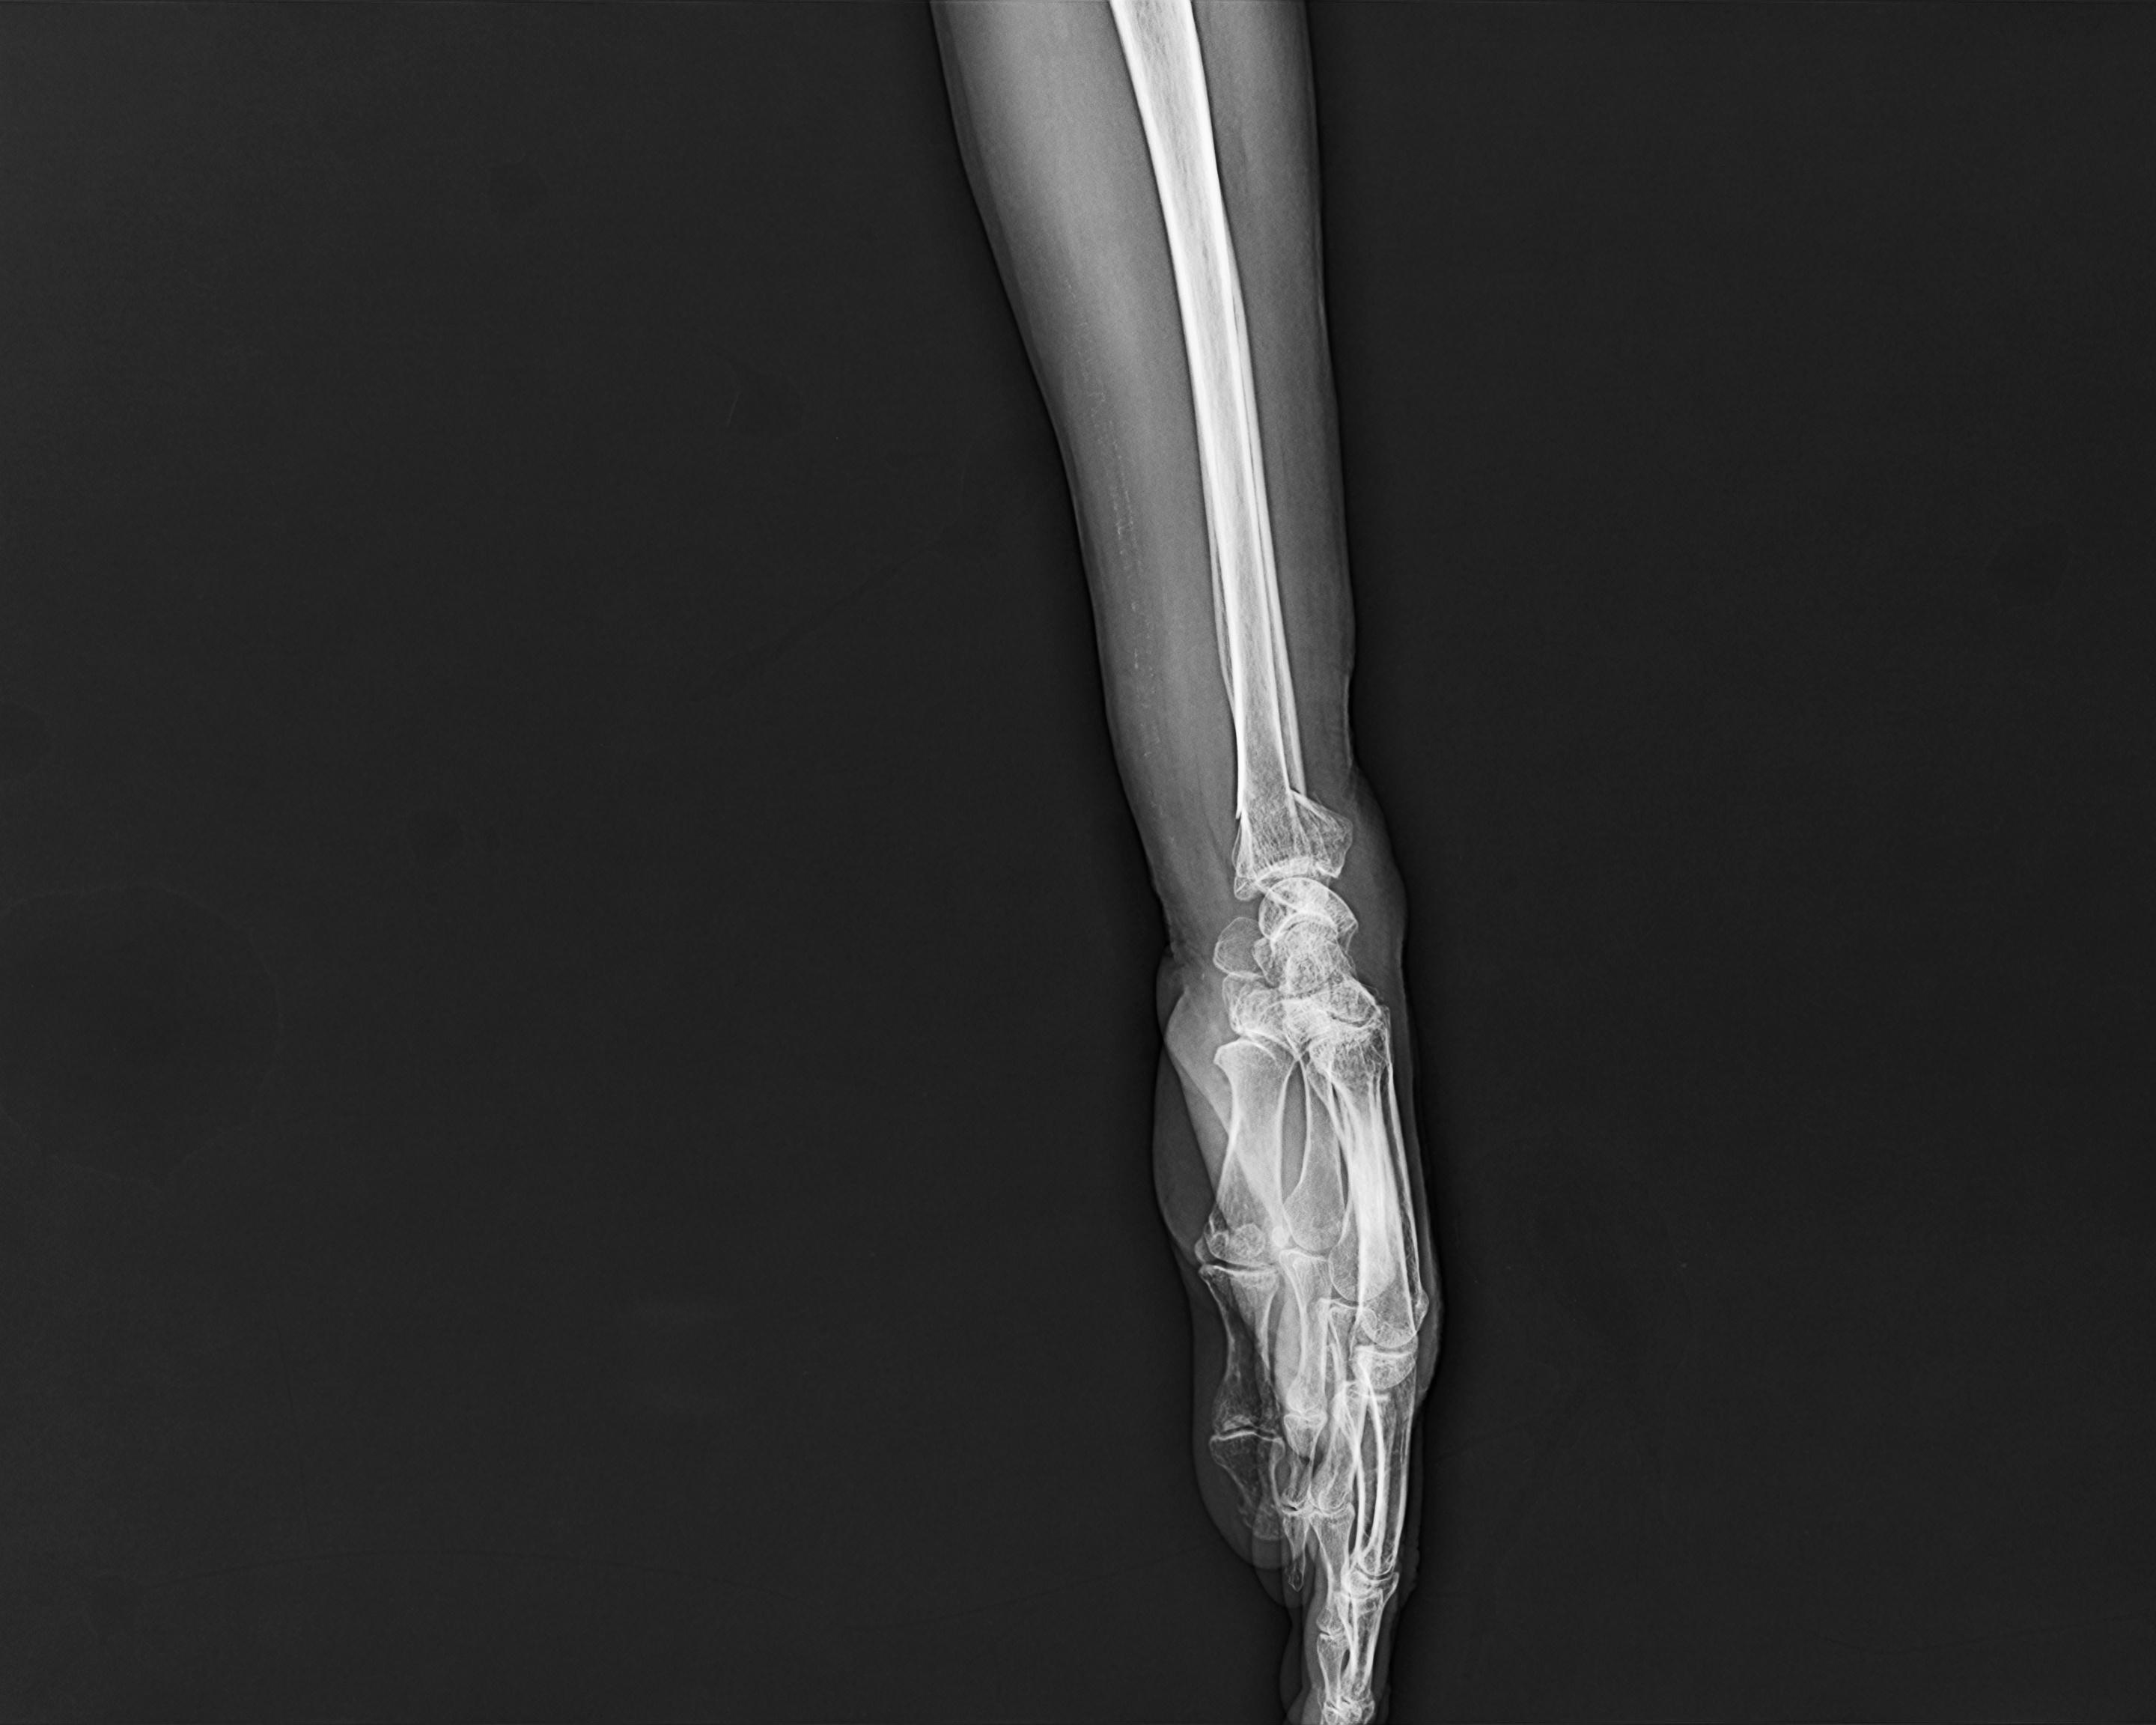fractured: (1221, 785, 1364, 884)
